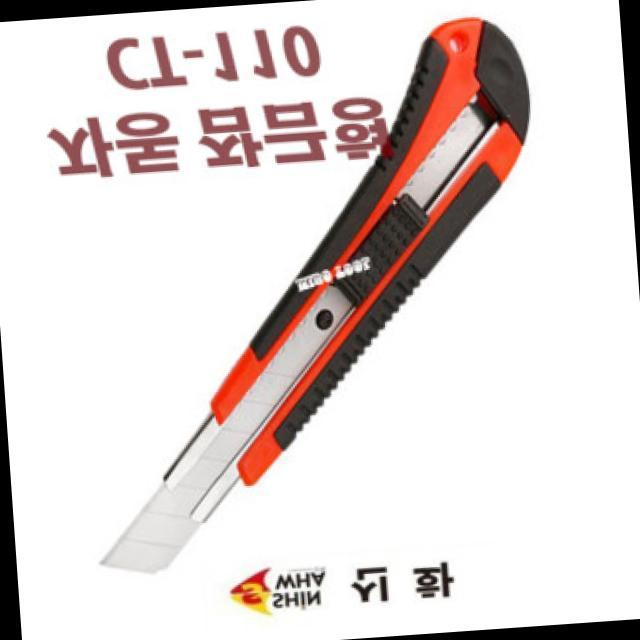cutter: (59, 5, 580, 587)
